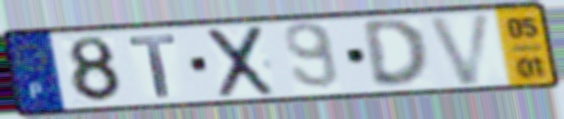8: (64, 34, 125, 105)
9: (283, 20, 343, 96)
D: (358, 16, 432, 90)
T: (125, 32, 179, 100)
V: (423, 10, 496, 88)
X: (205, 23, 278, 101)
